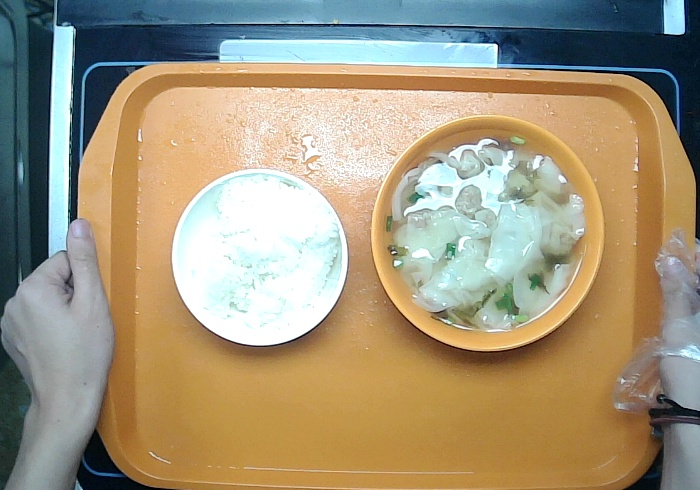NLDX-Fan_Wan: (167, 165, 349, 349)
NLDX-Hun_Tun_Wan: (369, 112, 604, 352)
